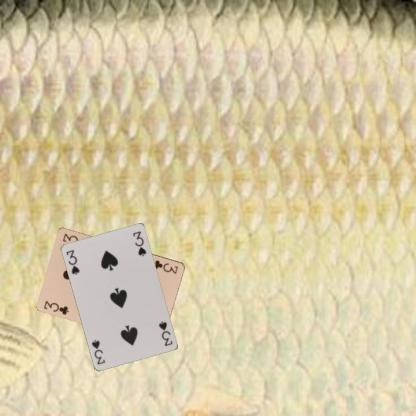3c: (41, 298, 71, 316), (151, 257, 179, 275)
3s: (156, 318, 174, 348), (63, 247, 81, 276)
